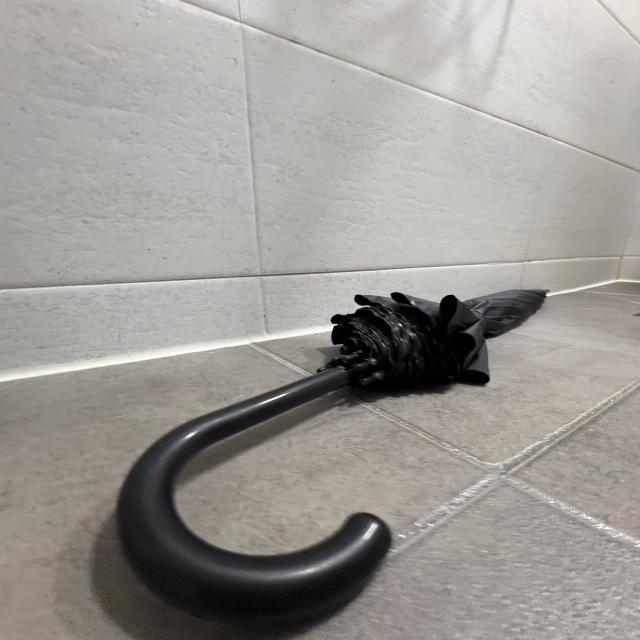umbrella: (121, 284, 550, 608)
